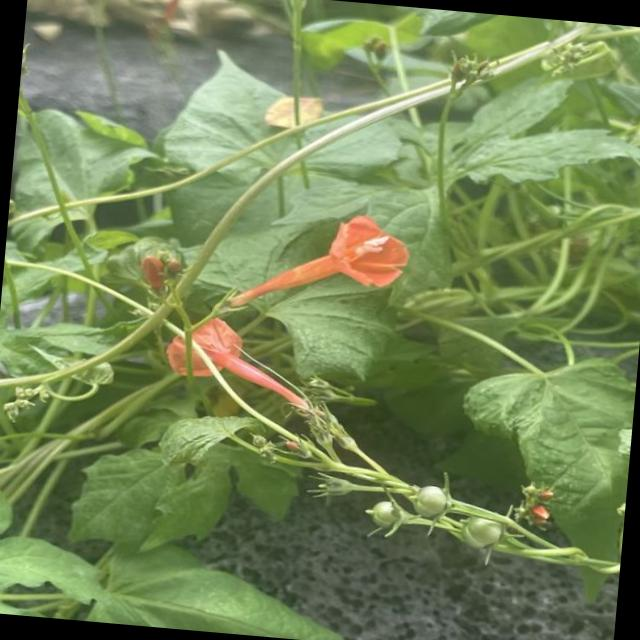ipomoea: (224, 202, 416, 328), (158, 310, 322, 417)
